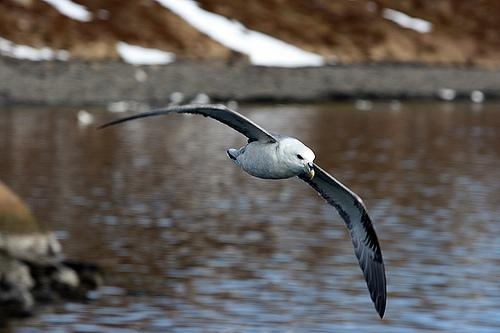bird: (94, 104, 391, 320)
